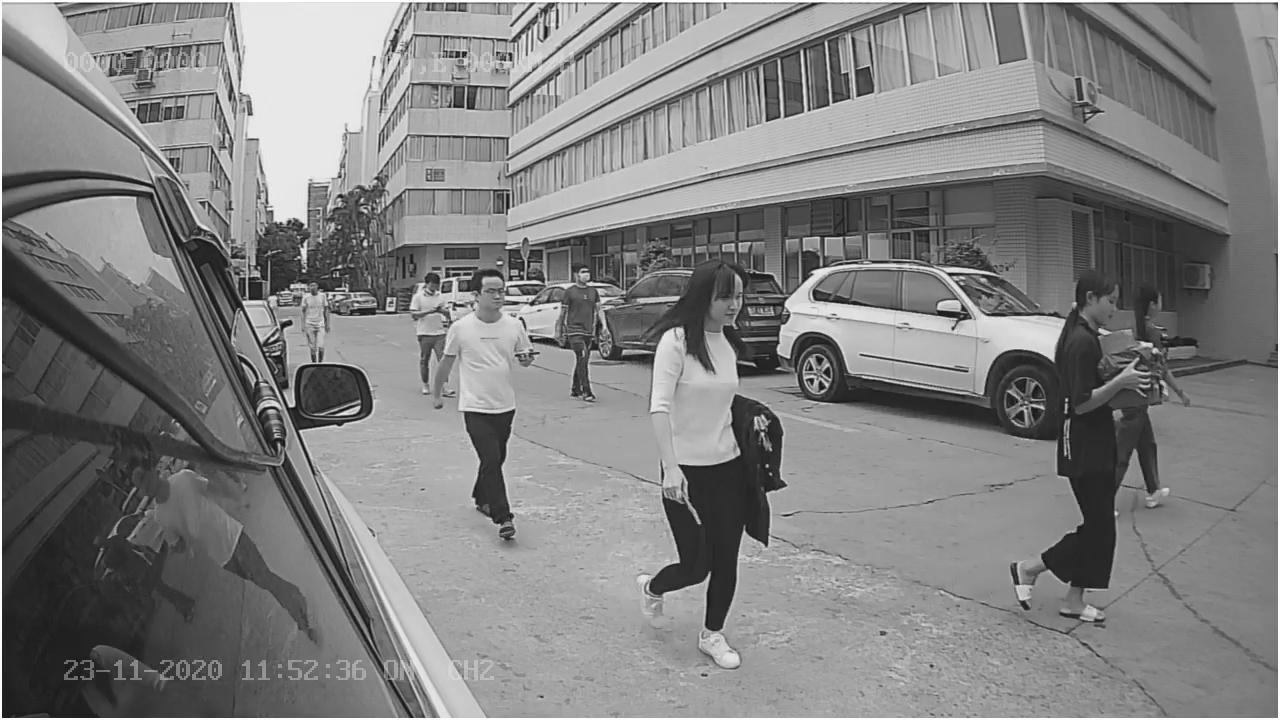person: (640, 259, 763, 665), (435, 264, 536, 545)
